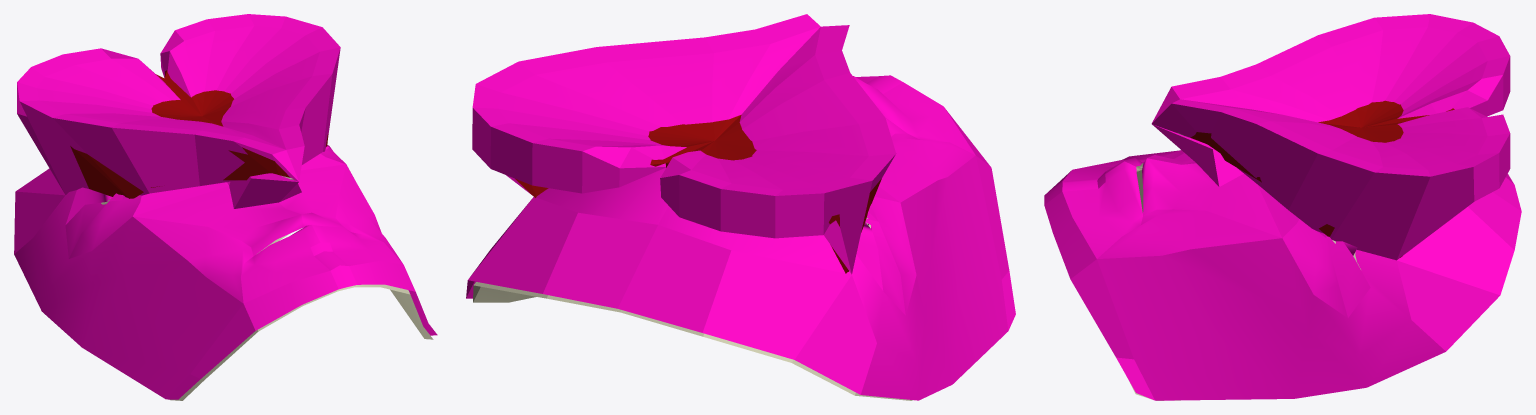
The model's file is Mask_Heart.fbx.
3 renders of one model, left to right at view 1: azimuth 30°, elevation 25°; view 2: azimuth 150°, elevation 25°; view 3: azimuth 270°, elevation 25°, orthographic. The views are drawn at different scales.
Parts seen in each view (by area): view 1: Outline_Heart, Heart_Mask; view 2: Outline_Heart, Heart_Mask; view 3: Outline_Heart, Heart_Mask.
Part boxes in pixels (x1,y1,x2,y2): Outline_Heart: (14, 14, 437, 399); Heart_Mask: (70, 70, 433, 400); Outline_Heart: (466, 14, 1015, 400); Heart_Mask: (473, 115, 912, 400); Outline_Heart: (1044, 14, 1521, 400); Heart_Mask: (1128, 100, 1454, 400).
Bounding box in the file's own units: 86.92 × 56.39 × 103.
